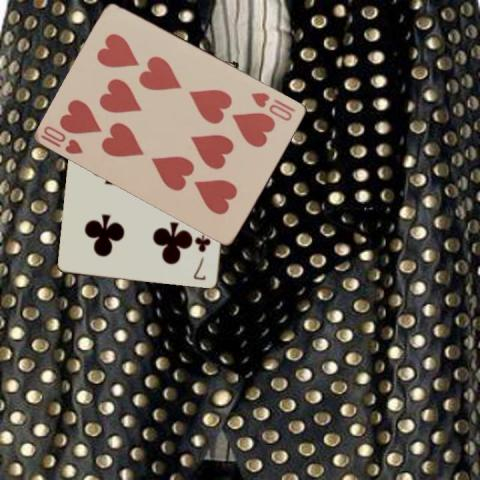10h: (248, 89, 297, 122), (38, 122, 85, 156)
7c: (193, 232, 212, 282)
